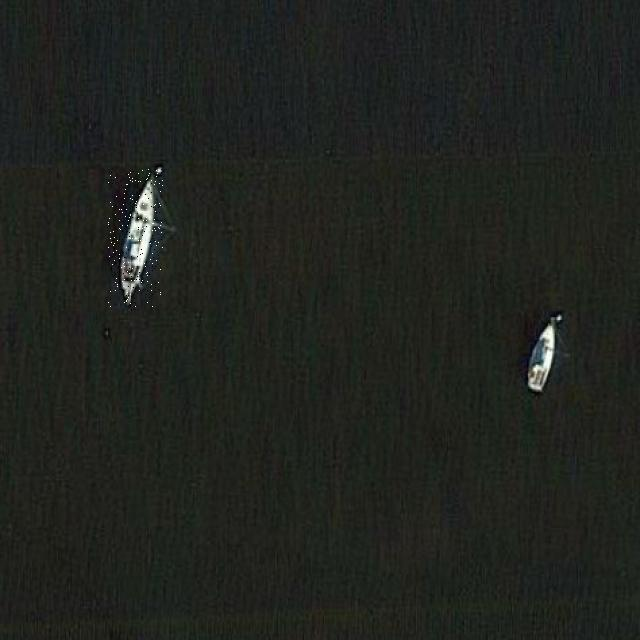boat: (108, 169, 163, 307), (520, 311, 562, 396)
